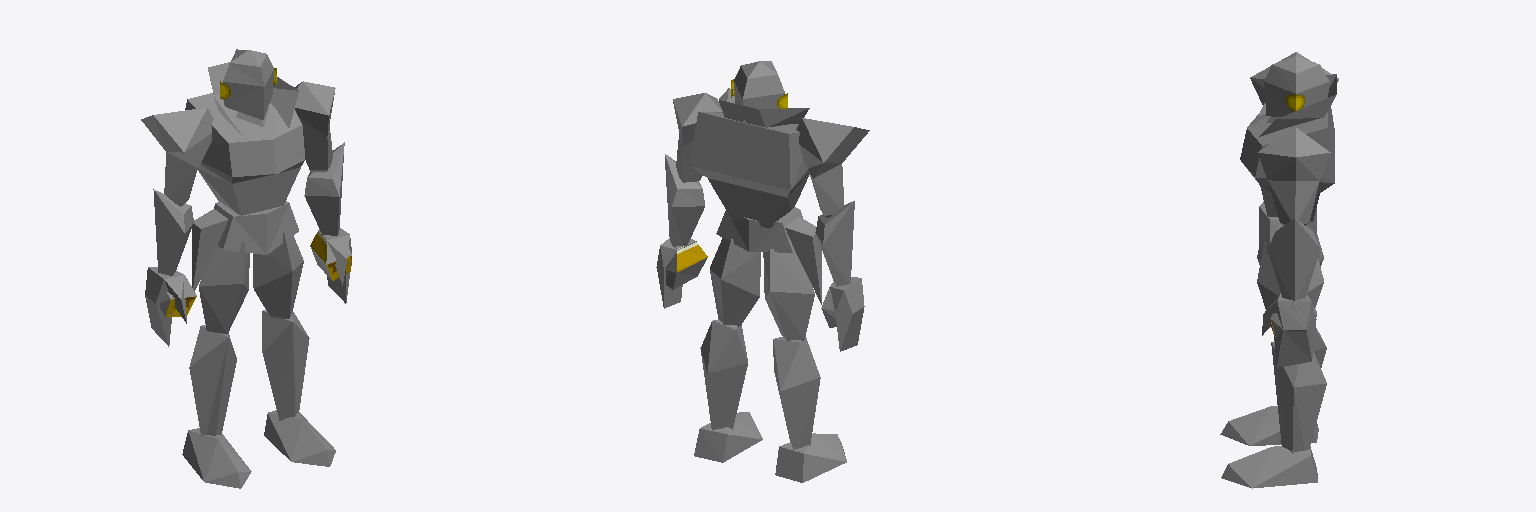
3 renders of one model, left to right at view 1: azimuth 30°, elevation 25°; view 2: azimuth 150°, elevation 25°; view 3: azimuth 270°, elevation 25°, orthographic.
Visible parts, largest first — view 1: Nemu_323B1AD6_0_067, Nemu_39E1874_0_090, Nemu_39E1874_0_089, Nemu_0_0_056, Nemu_0_0_054, Nemu_4BB404C4_0_062, Nemu_0_0_050, Nemu_16F98EB0_0_091, Nemu_16F98EB0_0_090, Nemu_78737FFD_0_067, Nemu_78737FFD_0_066, Nemu_7A8AD315_0_079 (+10 smaller); view 2: Nemu_[number redacted]_0_066, Nemu_0_0_055, Nemu_0_0_057, Nemu_0_0_056, Nemu_0_0_054, Nemu_16F98EB0_0_091, Nemu_78737FFD_0_066, Nemu_78737FFD_0_067, Nemu_16F98EB0_0_090, Nemu_0_0_050, Nemu_0_0_051, Nemu_773B051A_0_061 (+10 smaller); view 3: Nemu_0_0_050, Nemu_16F98EB0_0_090, Nemu_78737FFD_0_066, Nemu_323B1AD6_0_067, Nemu_0_0_055, Nemu_16F98EB0_0_091, Nemu_39E1874_0_089, Nemu_7C49E902_0_113, Nemu_0_0_054, Nemu_41B38208_0_114, Nemu_0_0_051, Nemu_78737FFD_0_064 (+3 smaller).
Part boxes in pixels (left/top/right/bottom): Nemu_323B1AD6_0_067: left=185, top=93, right=304, bottom=215; Nemu_39E1874_0_090: left=189, top=325, right=236, bottom=436; Nemu_39E1874_0_089: left=262, top=310, right=309, bottom=420; Nemu_0_0_056: left=199, top=242, right=249, bottom=334; Nemu_0_0_054: left=253, top=232, right=303, bottom=318; Nemu_4BB404C4_0_062: left=214, top=201, right=298, bottom=254; Nemu_0_0_050: left=294, top=81, right=335, bottom=171; Nemu_16F98EB0_0_091: left=182, top=428, right=251, bottom=488; Nemu_16F98EB0_0_090: left=264, top=410, right=335, bottom=466; Nemu_78737FFD_0_067: left=153, top=189, right=193, bottom=275; Nemu_78737FFD_0_066: left=304, top=142, right=344, bottom=235; Nemu_7A8AD315_0_079: left=154, top=107, right=213, bottom=167; Nemu_[number redacted]_0_066: left=689, top=112, right=790, bottom=228; Nemu_0_0_055: left=700, top=321, right=747, bottom=429; Nemu_0_0_057: left=773, top=339, right=820, bottom=449; Nemu_0_0_056: left=763, top=249, right=814, bottom=340; Nemu_0_0_054: left=710, top=238, right=760, bottom=326; Nemu_16F98EB0_0_091: left=775, top=433, right=846, bottom=482; Nemu_78737FFD_0_066: left=665, top=154, right=704, bottom=246; Nemu_78737FFD_0_067: left=815, top=201, right=854, bottom=286; Nemu_16F98EB0_0_090: left=694, top=412, right=762, bottom=462; Nemu_0_0_050: left=673, top=93, right=722, bottom=182; Nemu_0_0_051: left=734, top=61, right=784, bottom=122; Nemu_773B051A_0_061: left=716, top=211, right=792, bottom=252; Nemu_0_0_050: left=1257, top=127, right=1330, bottom=225; Nemu_16F98EB0_0_090: left=1221, top=446, right=1317, bottom=488; Nemu_78737FFD_0_066: left=1268, top=218, right=1319, bottom=300; Nemu_323B1AD6_0_067: left=1240, top=112, right=1334, bottom=221; Nemu_0_0_055: left=1292, top=351, right=1326, bottom=453; Nemu_16F98EB0_0_091: left=1220, top=406, right=1318, bottom=445; Nemu_39E1874_0_089: left=1271, top=341, right=1298, bottom=451; Nemu_7C49E902_0_113: left=1274, top=321, right=1315, bottom=367; Nemu_0_0_054: left=1257, top=242, right=1323, bottom=333; Nemu_41B38208_0_114: left=1262, top=293, right=1316, bottom=335; Nemu_0_0_051: left=1296, top=56, right=1329, bottom=107; Nemu_78737FFD_0_064: left=1259, top=94, right=1336, bottom=136.
Size of the model in its own units: 0.3446 by 0.6703 by 0.1804.
Materials: 37 (2 with a texture image).